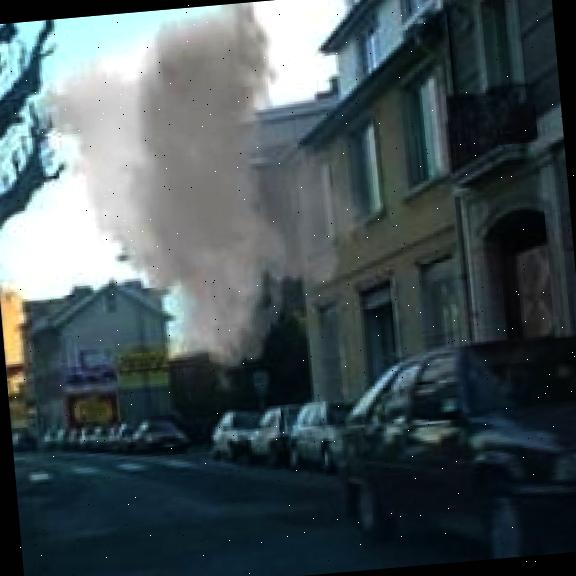smoke: (16, 0, 391, 386)
